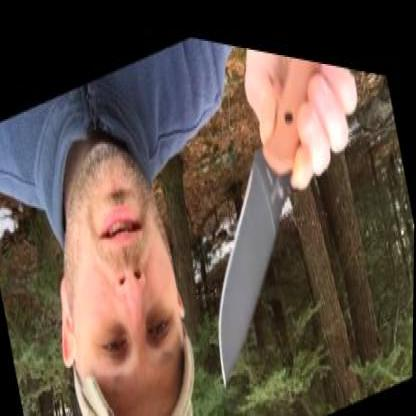knife: (170, 32, 372, 411)
